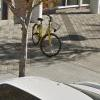Bicycle: (32, 12, 63, 59)
